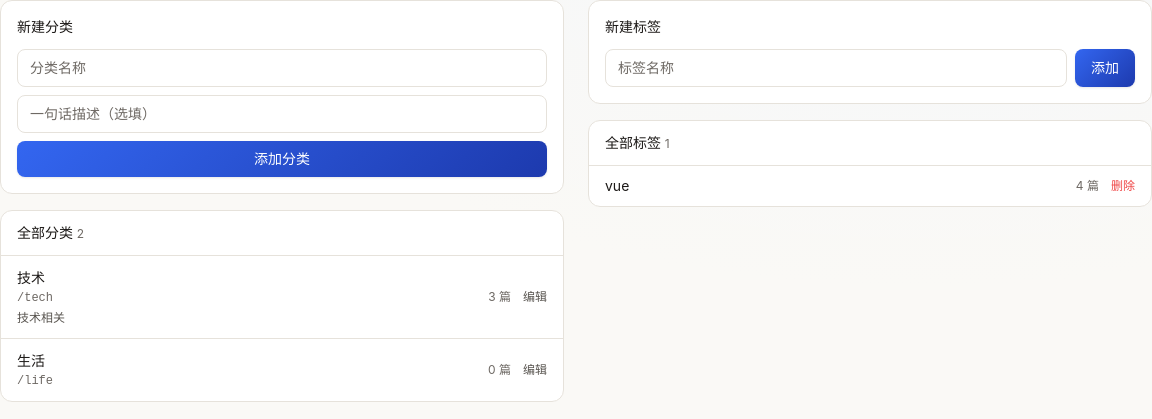
Test: TaxonomyView · 标签 › 点「添加」提交 trim 后的名称，成功后清空输入框并刷新列表
Type "  vite  " into the field named "标签名称" at (836, 68), box [605,49,1067,87]
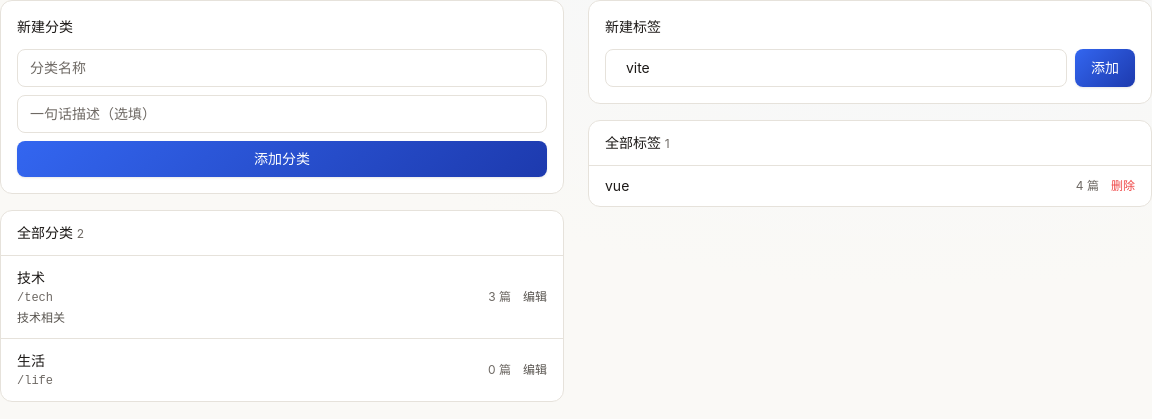
Click the button "添加" at (1105, 68), box [1075,49,1135,87]
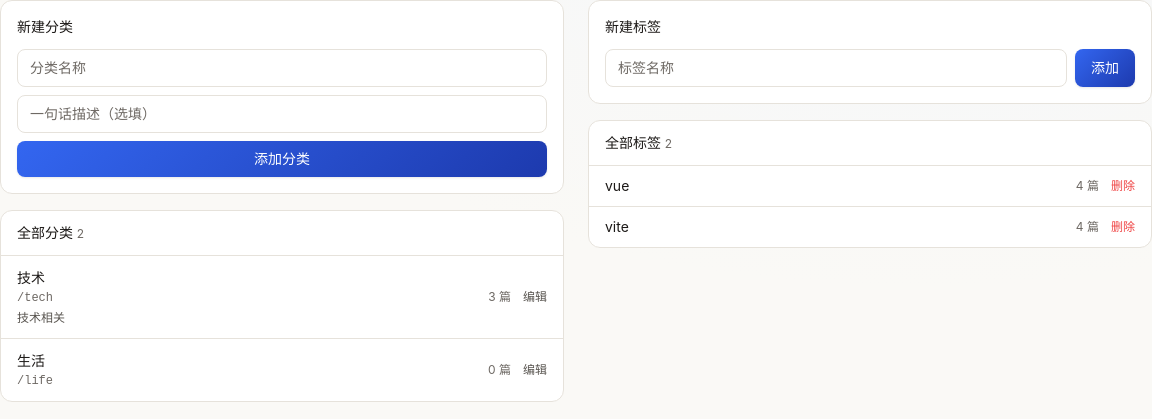
Check: the element showing "新建标签 添加 全部标签 2 vue 4 篇 删除 vite 4 篇 删除" is shown, box [588,0,1151,402]
